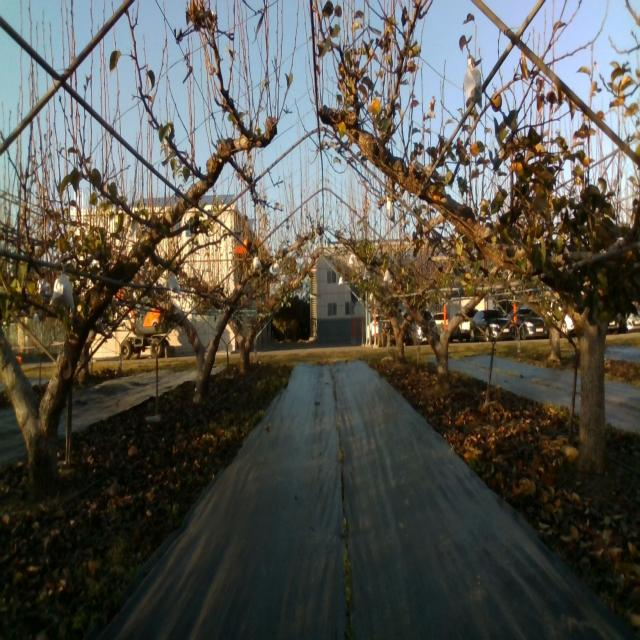pearbags: (464, 57, 483, 111), (49, 273, 75, 311), (167, 274, 180, 296)
